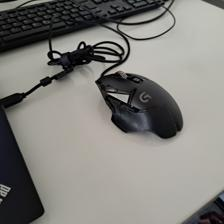mouse: (94, 68, 184, 140)
